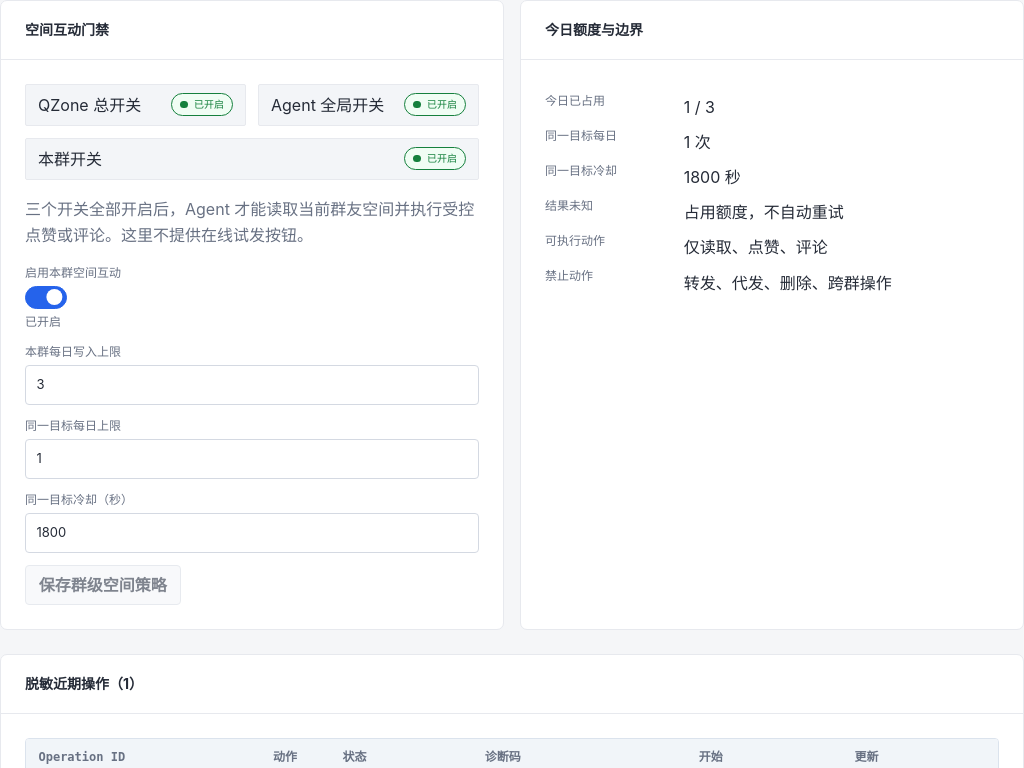
GroupQzoneAgentPanel › validates against global limits with accessible Chinese feedback
Replace the text in the number field labelled "本群每日写入上限" with "4" at (252, 385), box [25,365,479,405]
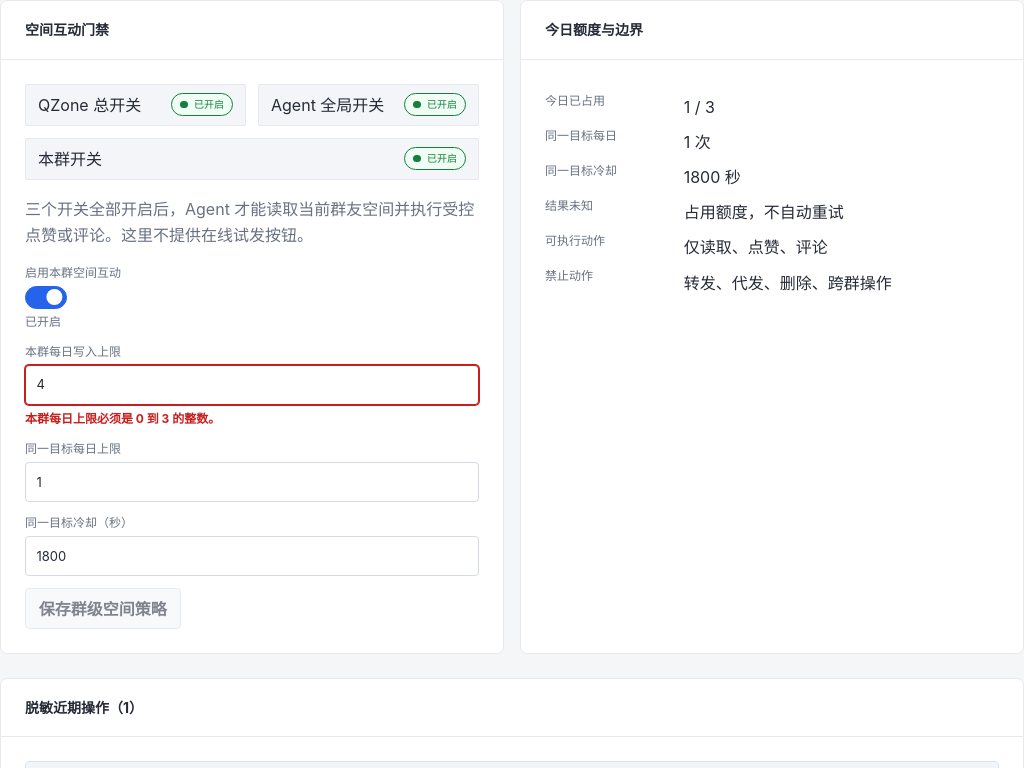
expect the button "保存群级空间策略" is disabled: met, box [25,588,181,629]
expect the message "本群每日上限必须是 0 到 3 的整数。" is shown: met, box [25,411,220,426]
